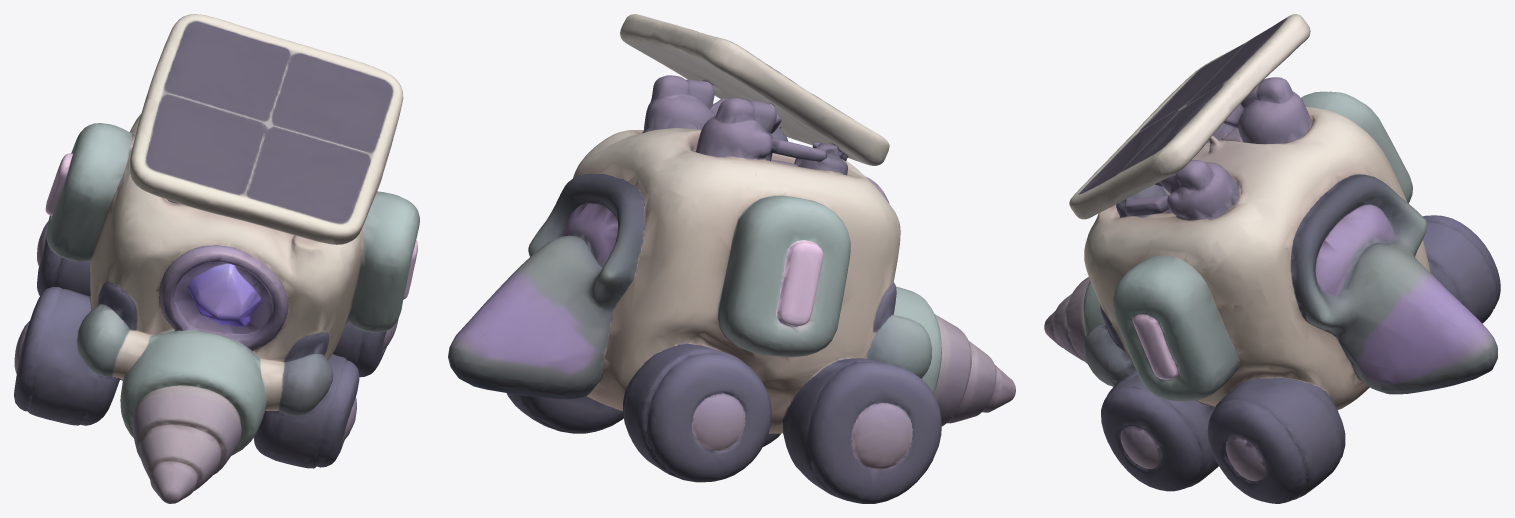
File: mining_rig.glb
3 views of the same model, side by side, from view 1: azimuth 30°, elevation 25°; view 2: azimuth 150°, elevation 25°; view 3: azimuth 270°, elevation 25° (orthographic). The views are drawn at different scales.
Bounding box in the file's own units: 0.8592 × 0.8931 × 0.8451.
Materials: 1 (1 with a texture image).
